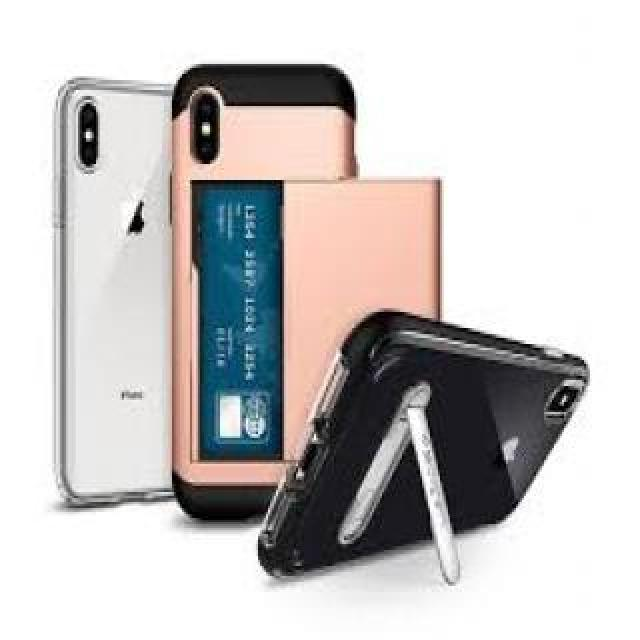smart phone: (45, 78, 175, 510)
